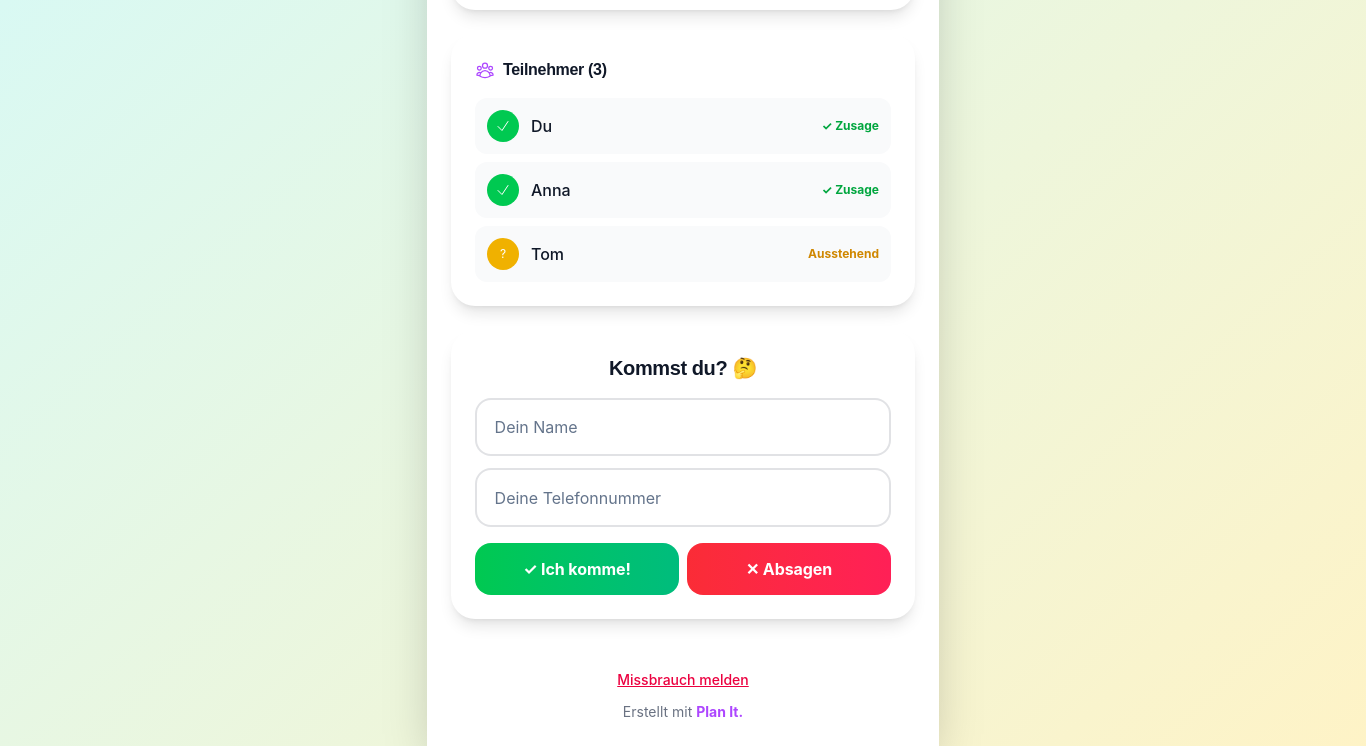
Test: public invitation response › handles decline responses and shows declined participant state
(page scrolled)
Type "Tom Declined" into the field with placeholder "Dein Name".
click(683, 427); type("Tom Declined")  # box x1=475 y1=398 x2=891 y2=456
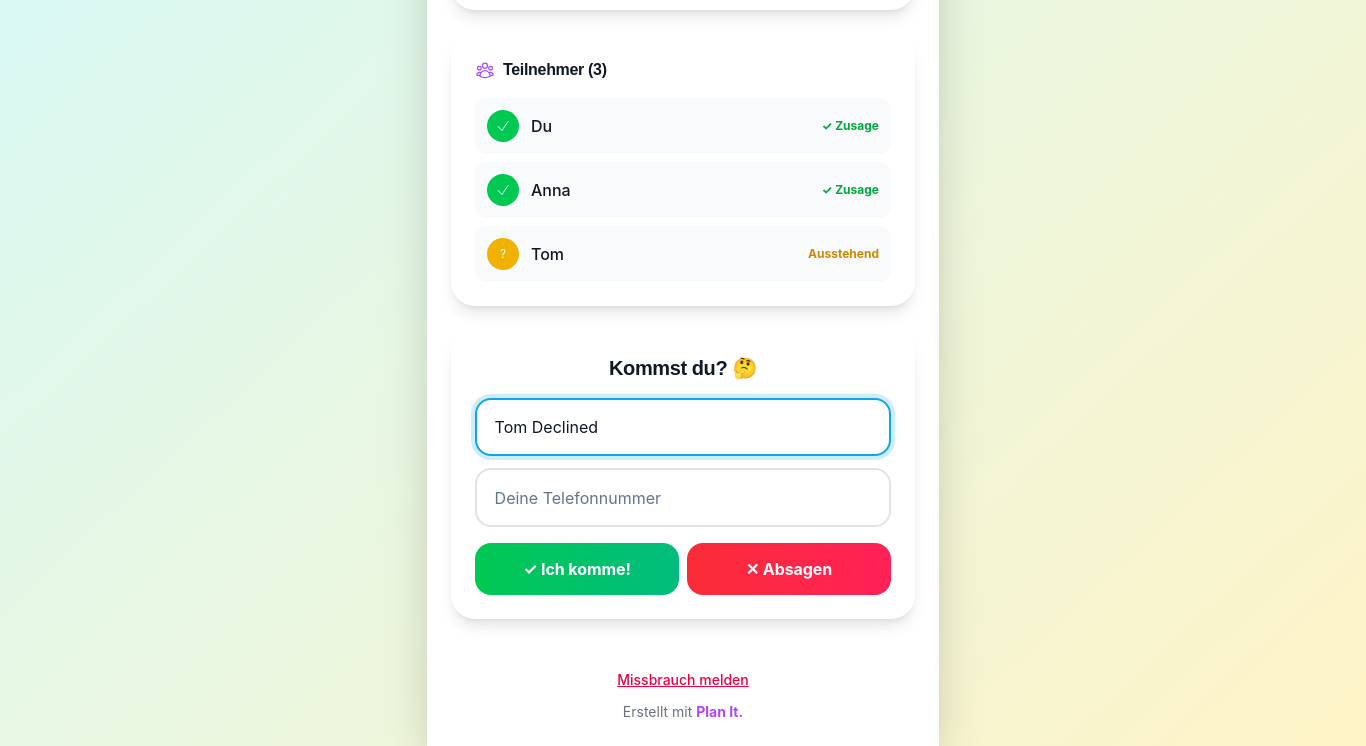
Type "+491522222222" into the field with placeholder "Deine Telefonnummer".
click(683, 498); type("+491522222222")  # box x1=475 y1=468 x2=891 y2=527
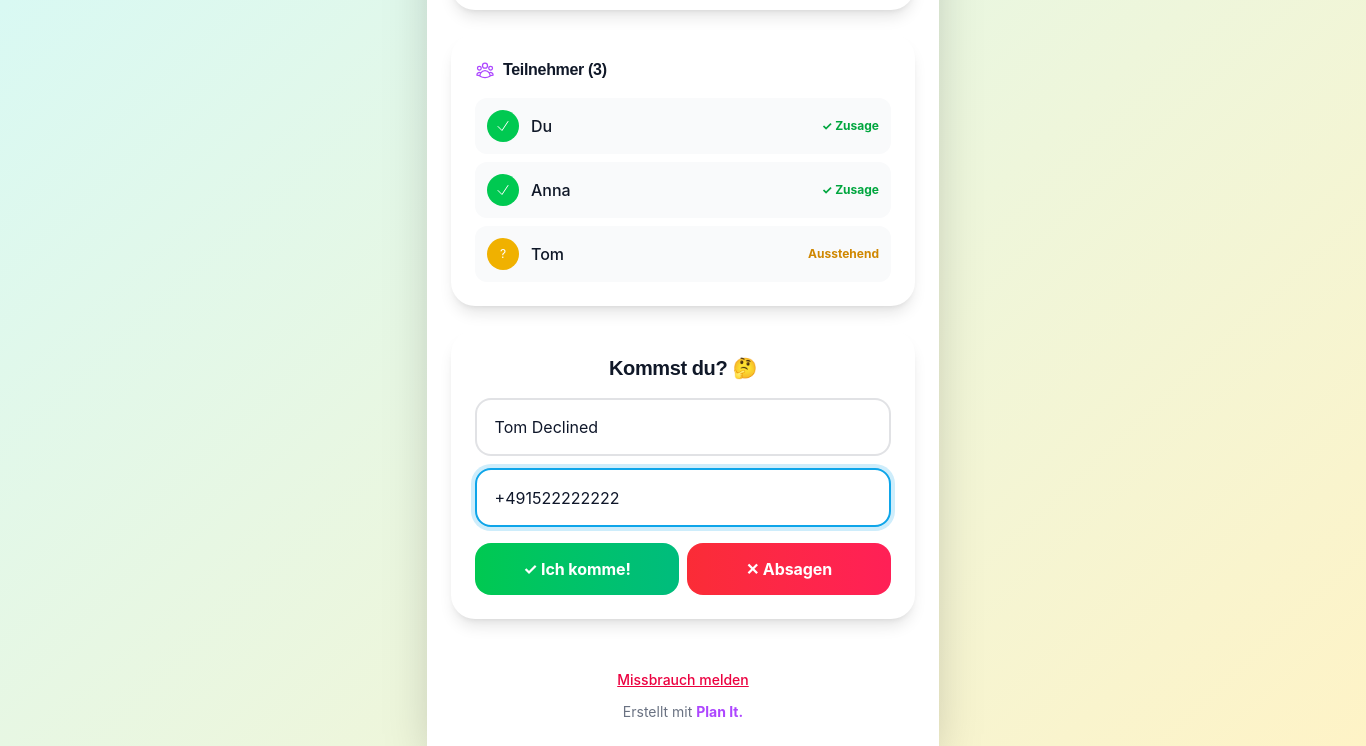
Click the button "✕ Absagen".
click(789, 569)  # box x1=687 y1=543 x2=891 y2=595
(page scrolled)
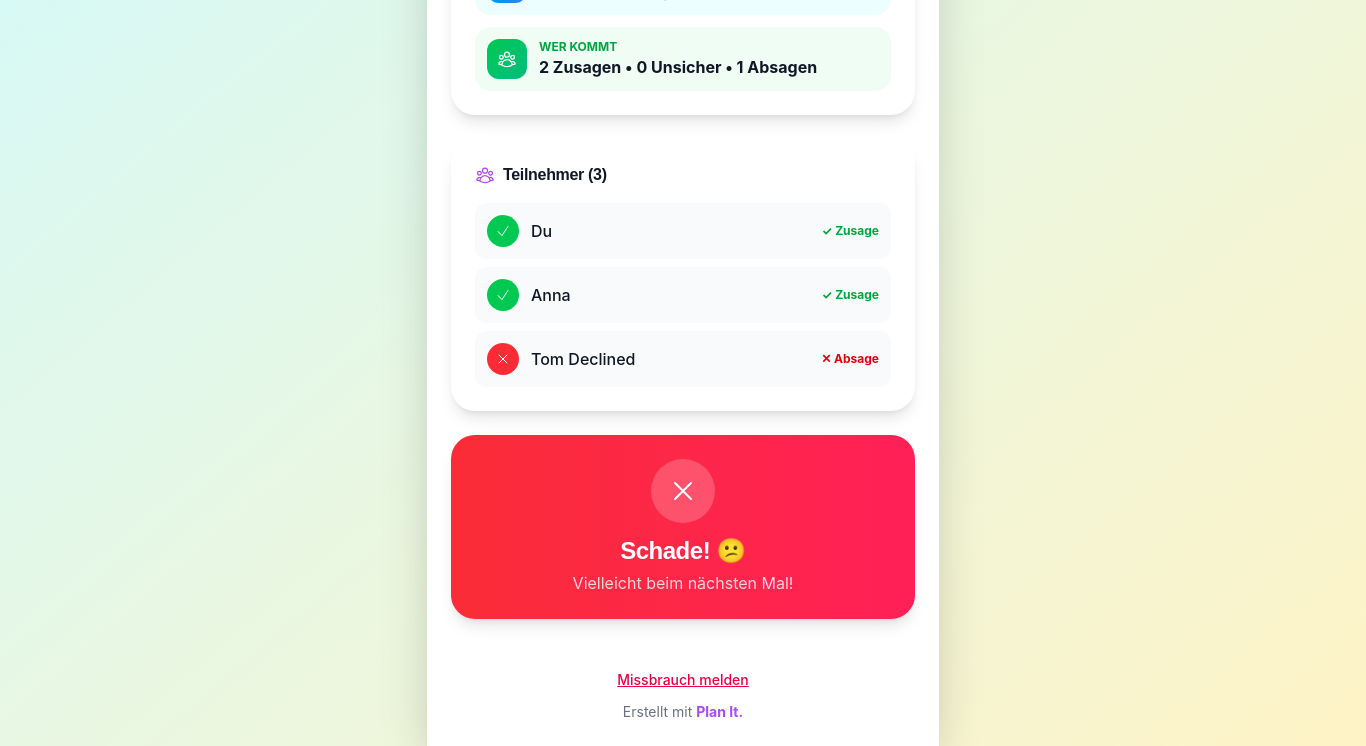
Check: the heading "Schade! 😕" is shown, box x1=620 y1=537 x2=746 y2=564
Check: the text "Tom Declined" is shown, box x1=531 y1=347 x2=636 y2=371
Check: the text "✕ Absage" is shown, box x1=821 y1=351 x2=879 y2=367
